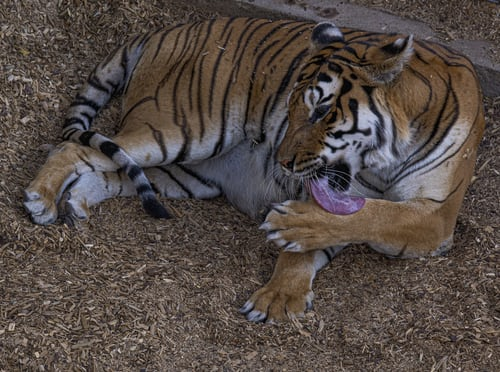tiger: (286, 43, 412, 213)
